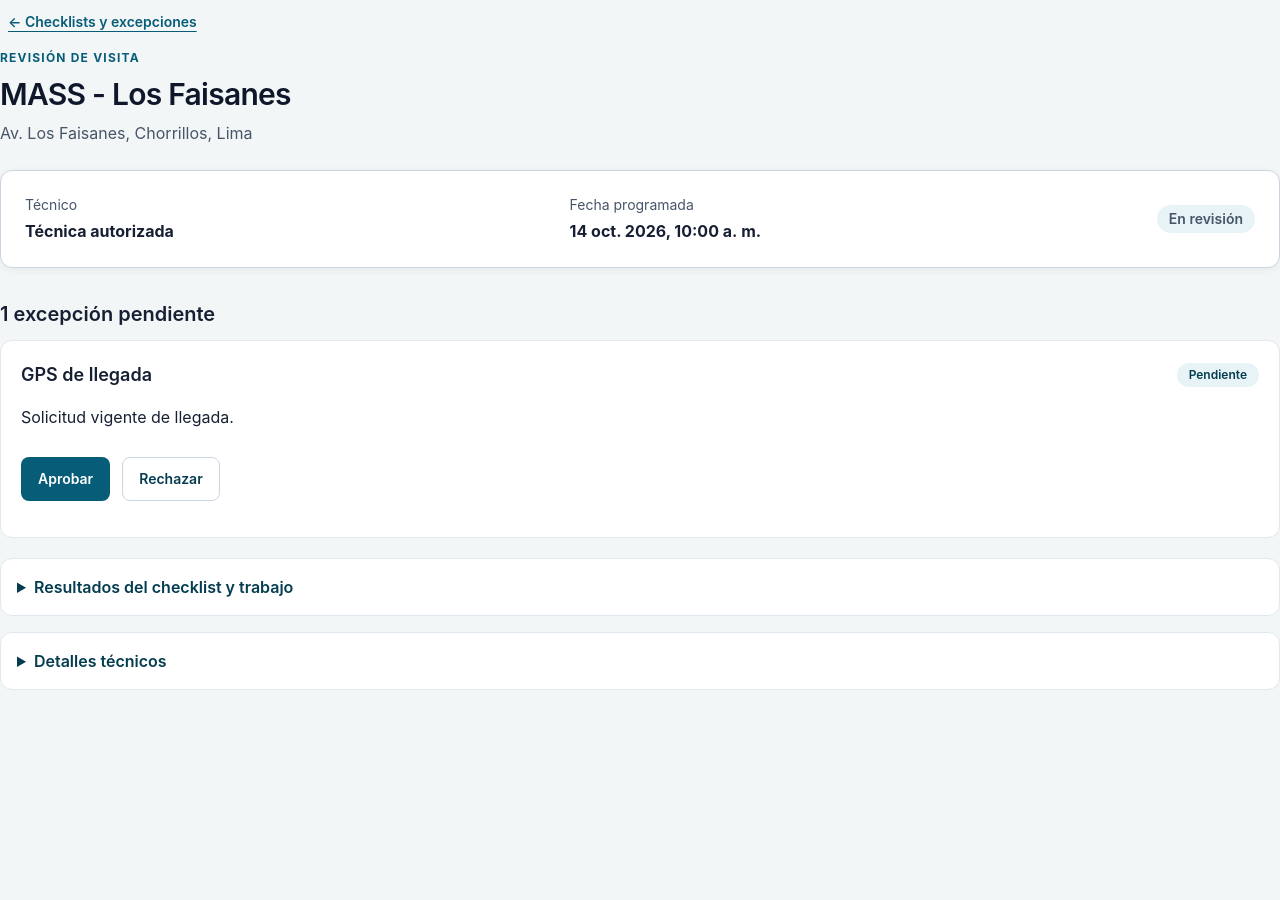
Test case: no repite una solicitud pendiente como historial y conserva su telemetría expandible
Expected: the text "Técnica autorizada" is shown, [25,219,174,243]
Expected: the text "Solicitud vigente de llegada." is shown once, [21,407,234,427]
Click the heading "Detalles técnicos": (100, 661) [34,651,167,671]
(page scrolled)
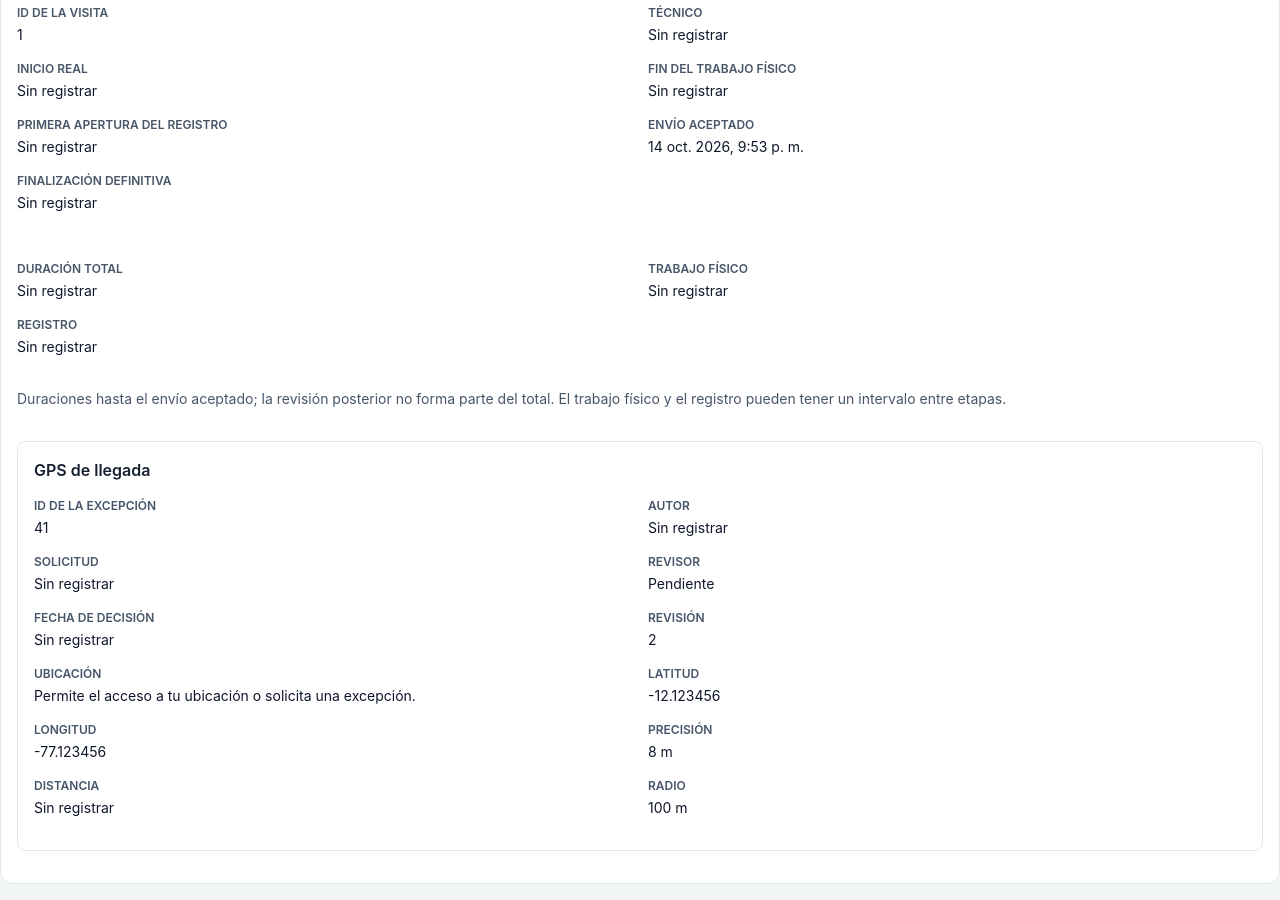
Now the text "-12.123456" is shown, box [648,687,720,704]
